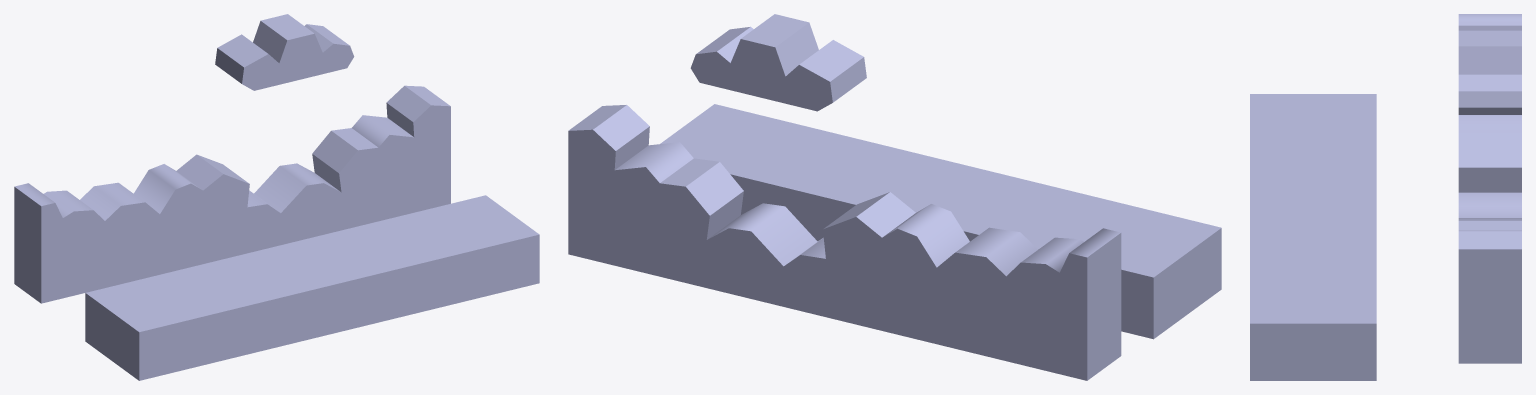
Rendered from PlateauRight.fbx.
The picture shows the model from 3 angles, left to right: view 1: azimuth 30°, elevation 25°; view 2: azimuth 150°, elevation 25°; view 3: azimuth 270°, elevation 25°; orthographic projection. The views are drawn at different scales.
Visible parts, largest first — view 1: PRFloor, PlateauRightTrack, PRPlateau; view 2: PRFloor, PlateauRightTrack, PRPlateau; view 3: PlateauRightTrack, PRFloor, PRPlateau.
Boxes of the visible parts, bbox=[...] form: PRFloor: bbox=[14, 85, 450, 303]; PlateauRightTrack: bbox=[85, 195, 539, 380]; PRPlateau: bbox=[215, 14, 354, 90]; PRFloor: bbox=[568, 105, 1121, 380]; PlateauRightTrack: bbox=[660, 104, 1221, 339]; PRPlateau: bbox=[690, 14, 866, 111]; PlateauRightTrack: bbox=[1250, 94, 1376, 380]; PRFloor: bbox=[1458, 14, 1521, 363]; PRPlateau: bbox=[1458, 25, 1521, 114].
Bounding box in the file's own units: 44 × 22.36 × 21.5.
